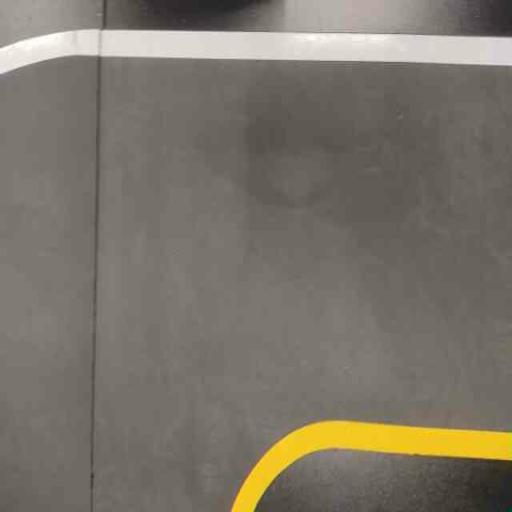straight: (360, 4, 512, 472)
